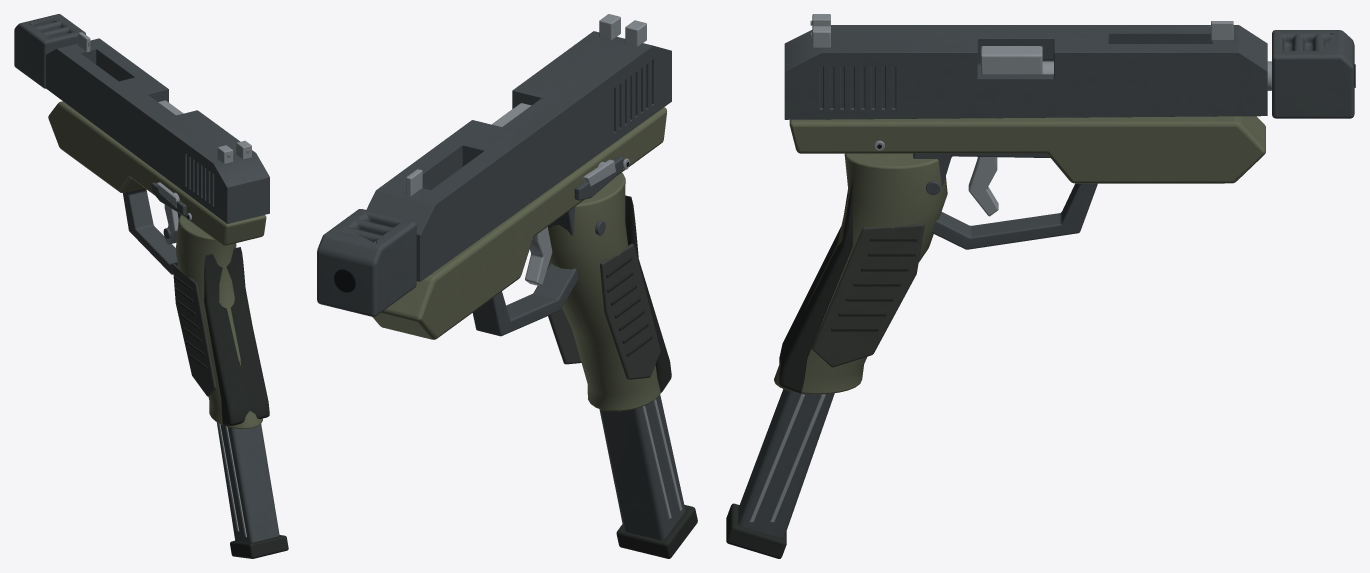
Rendered from rattler.glb.
3 renders of one model, left to right at view 1: azimuth 30°, elevation 25°; view 2: azimuth 150°, elevation 25°; view 3: azimuth 270°, elevation 25°, orthographic. The views are drawn at different scales.
Parts seen in each view (by area): view 1: Rattler_Slide, Rattler_Static_Dense rubber, Rattler_Frame, Rattler_Static_Treated graphite, Rattler_Magazine, Rattler_Grip, Rattler_Static_Grip stipple, Rattler_MagazineFloorplate, Rattler_Static_Machined steel, Rattler_Trigger; view 2: Rattler_Slide, Rattler_Static_Treated graphite, Rattler_Frame, Rattler_Grip, Rattler_Magazine, Rattler_Static_Grip stipple, Rattler_Static_Dense rubber, Rattler_MagazineFloorplate, Rattler_Trigger, Rattler_Static_Machined steel, Rattler_RearSight, Rattler_RearSight.001 (+1 smaller); view 3: Rattler_Slide, Rattler_Frame, Rattler_Static_Treated graphite, Rattler_Grip, Rattler_Static_Grip stipple, Rattler_Magazine, Rattler_Static_Dense rubber, Rattler_Static_Machined steel, Rattler_MagazineFloorplate, Rattler_Trigger.
Boxes of the visible parts, <box> form: Rattler_Slide: <box>46,38,269,223</box>; Rattler_Static_Dense rubber: <box>174,247,269,425</box>; Rattler_Frame: <box>48,101,266,245</box>; Rattler_Static_Treated graphite: <box>14,14,186,274</box>; Rattler_Magazine: <box>216,422,279,542</box>; Rattler_Grip: <box>176,215,262,429</box>; Rattler_Static_Grip stipple: <box>173,263,251,396</box>; Rattler_MagazineFloorplate: <box>230,535,288,558</box>; Rattler_Static_Machined steel: <box>157,100,191,220</box>; Rattler_Trigger: <box>164,204,178,244</box>; Rattler_Slide: <box>366,31,671,281</box>; Rattler_Static_Treated graphite: <box>317,156,623,336</box>; Rattler_Frame: <box>372,107,666,339</box>; Rattler_Grip: <box>548,172,660,411</box>; Rattler_Magazine: <box>599,395,685,540</box>; Rattler_Static_Grip stipple: <box>548,243,660,379</box>; Rattler_Static_Dense rubber: <box>606,195,671,392</box>; Rattler_MagazineFloorplate: <box>616,505,697,558</box>; Rattler_Trigger: <box>525,227,552,286</box>; Rattler_Static_Machined steel: <box>492,103,629,186</box>; Rattler_RearSight: <box>625,20,646,46</box>; Rattler_RearSight.001: <box>599,14,620,39</box>; Rattler_Slide: <box>784,25,1267,119</box>; Rattler_Frame: <box>789,116,1265,183</box>; Rattler_Static_Treated graphite: <box>913,30,1354,249</box>; Rattler_Grip: <box>774,153,947,394</box>; Rattler_Static_Grip stipple: <box>812,223,924,367</box>; Rattler_Magazine: <box>738,389,834,538</box>; Rattler_Static_Dense rubber: <box>779,181,917,393</box>; Rattler_Static_Machined steel: <box>874,46,1042,150</box>; Rattler_MagazineFloorplate: <box>726,503,786,558</box>; Rattler_Trigger: <box>968,157,998,216</box>.
Bounding box in the file's own units: 0.04 × 0.2811 × 0.3049.
7 materials, 7 textured.
